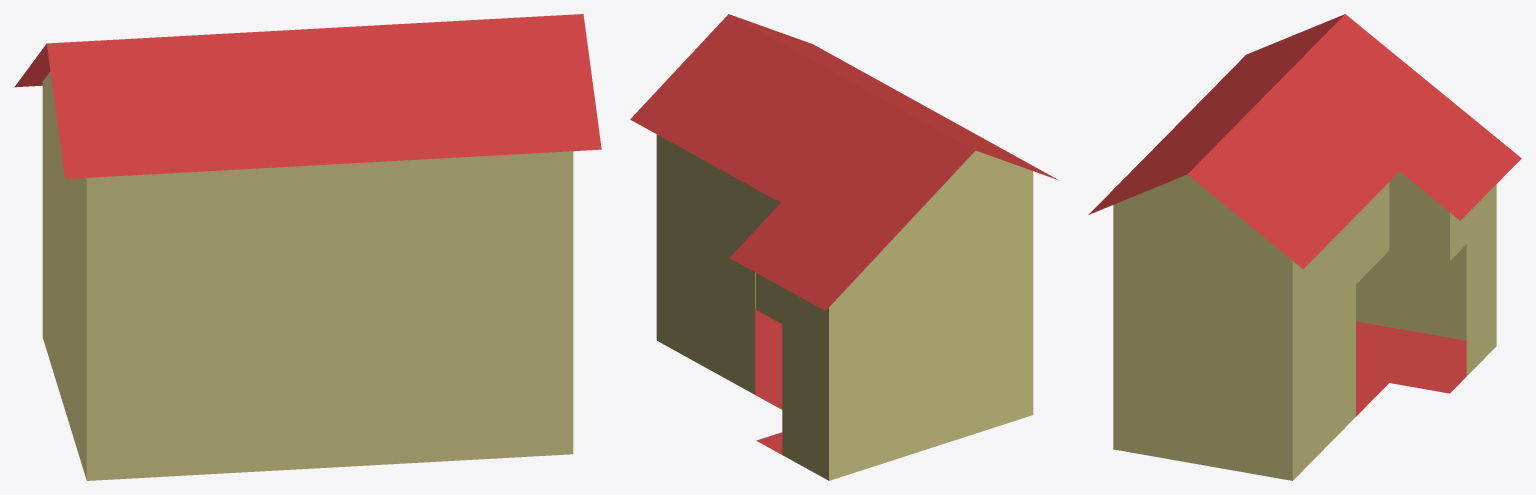
The picture shows the model from 3 angles, left to right: view 1: azimuth 30°, elevation 25°; view 2: azimuth 150°, elevation 25°; view 3: azimuth 270°, elevation 25°; orthographic projection. The views are drawn at different scales.
Bounding box in the file's own units: 24.3 × 22.45 × 16.95.
